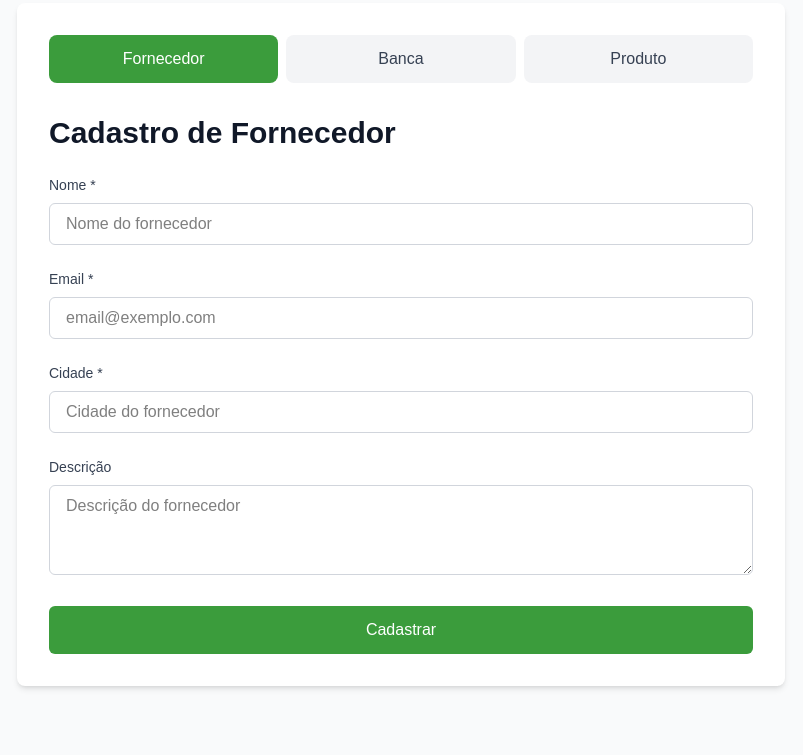
Test: FormCadastro - Testes Completos › EU009 - Cadastro de Fornecedor › deve enviar dados do fornecedor para API com sucesso
Type "Fornecedor Teste" into the field labelled "Nome *" at point(401, 224), box x1=49 y1=203 x2=753 y2=245
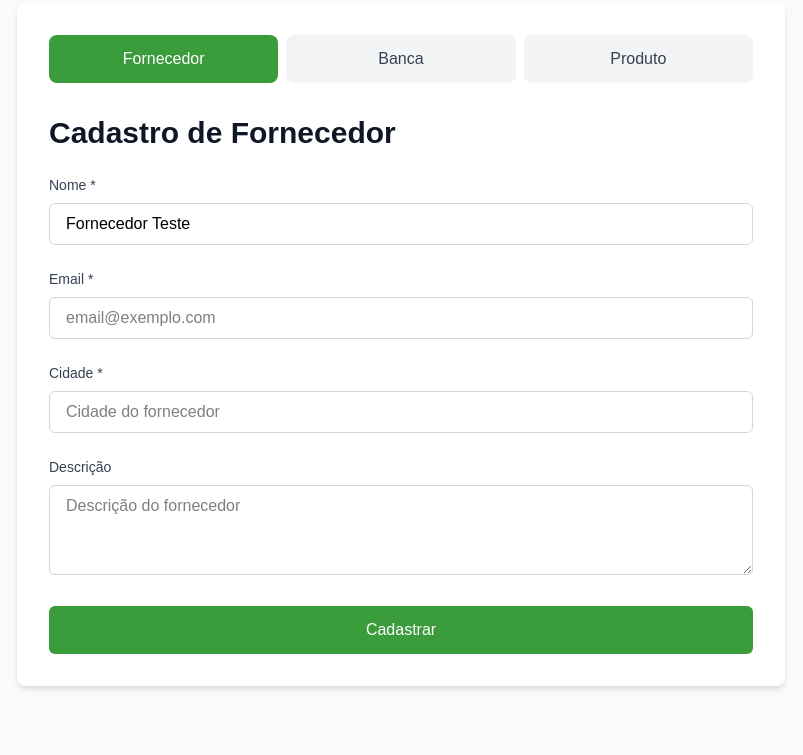
Type "teste@fornecedor.com" into the field labelled "Email *" at point(401, 318), box x1=49 y1=297 x2=753 y2=339
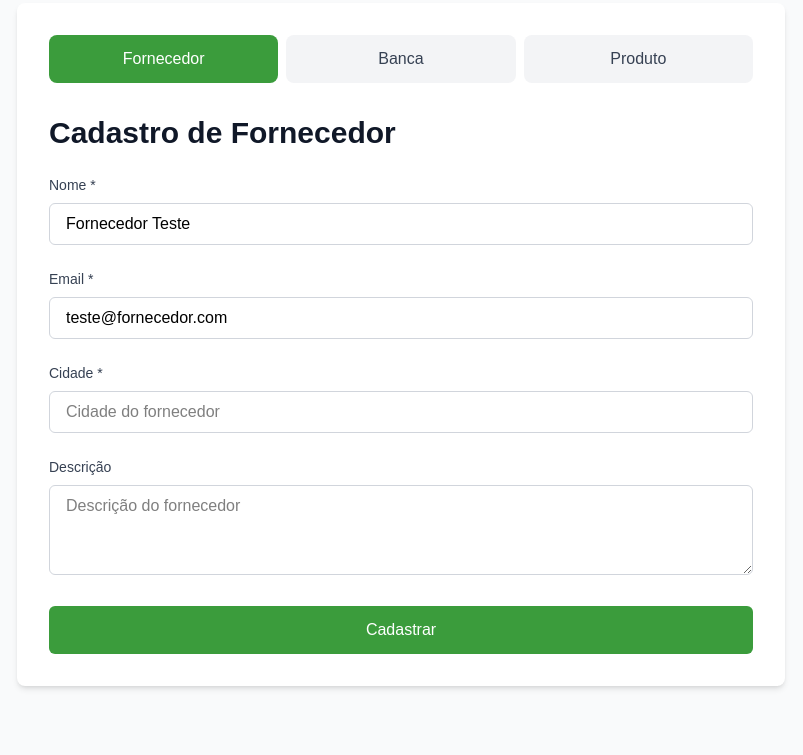
Type "Brasília" into the field labelled "Cidade *" at point(401, 412), box x1=49 y1=391 x2=753 y2=433
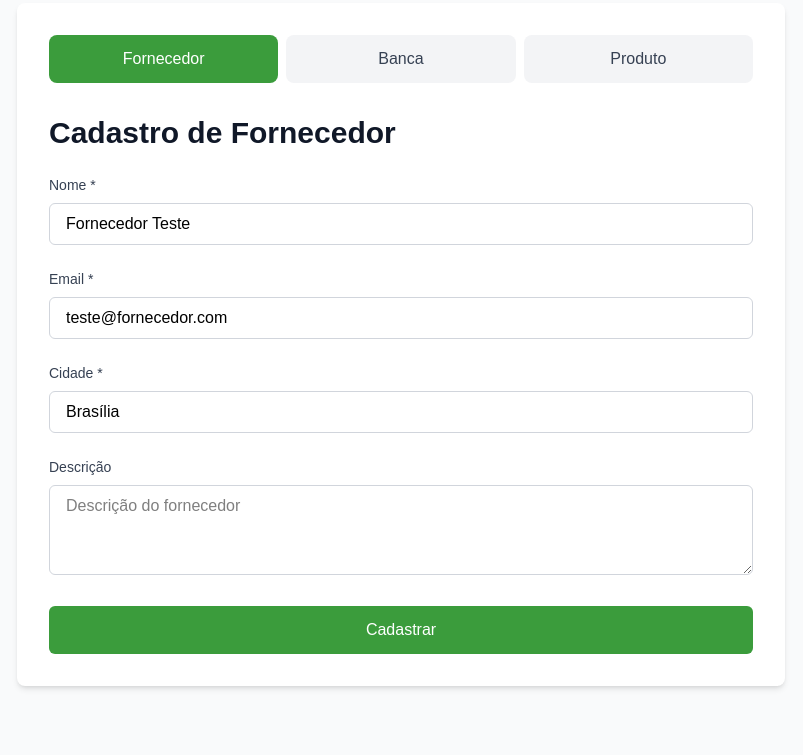
Click the button "Cadastrar" at point(401, 630), box x1=49 y1=606 x2=753 y2=654
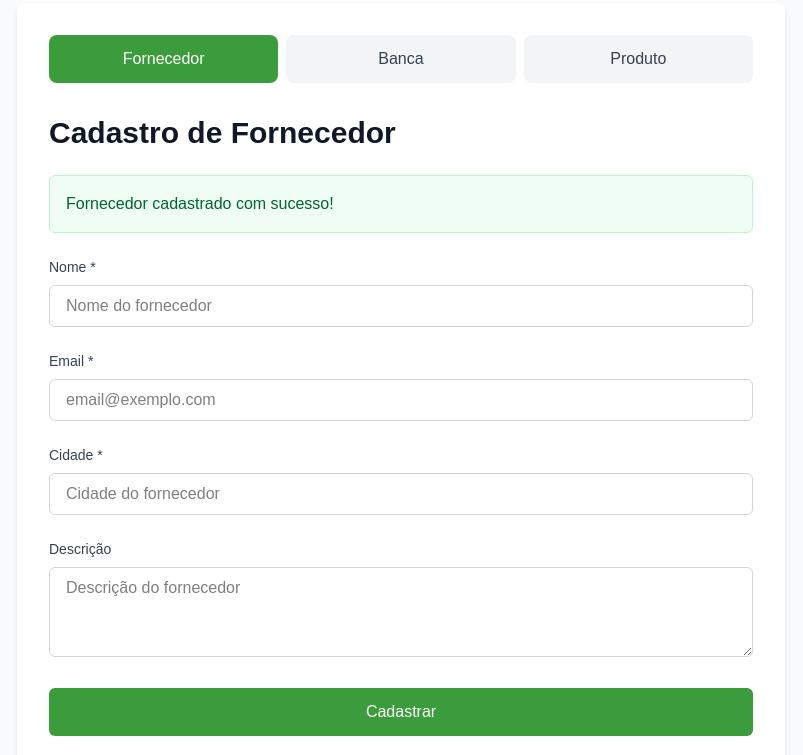
Expected: the text "Fornecedor cadastrado com sucesso!" is shown, x1=49 y1=175 x2=753 y2=233
